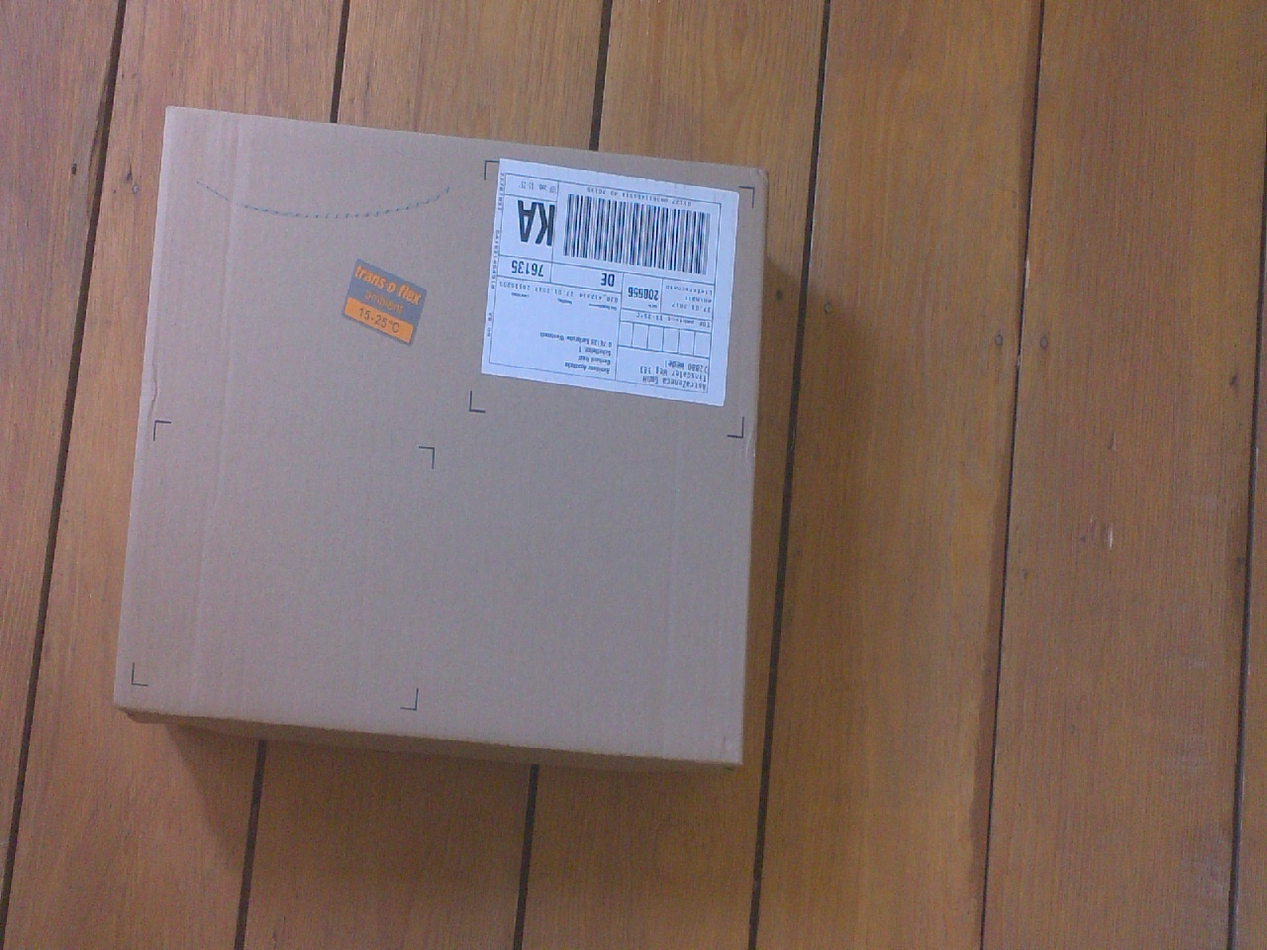good-parcel: (116, 89, 772, 803)
